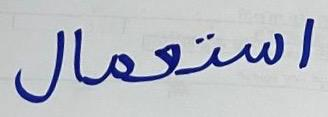dal: (71, 25, 84, 84)
kaf: (144, 43, 181, 82)
lam: (14, 28, 68, 106)
meem: (86, 52, 137, 85)
reh: (296, 16, 315, 70)
seen: (225, 32, 286, 69)
teh: (183, 32, 223, 76)
